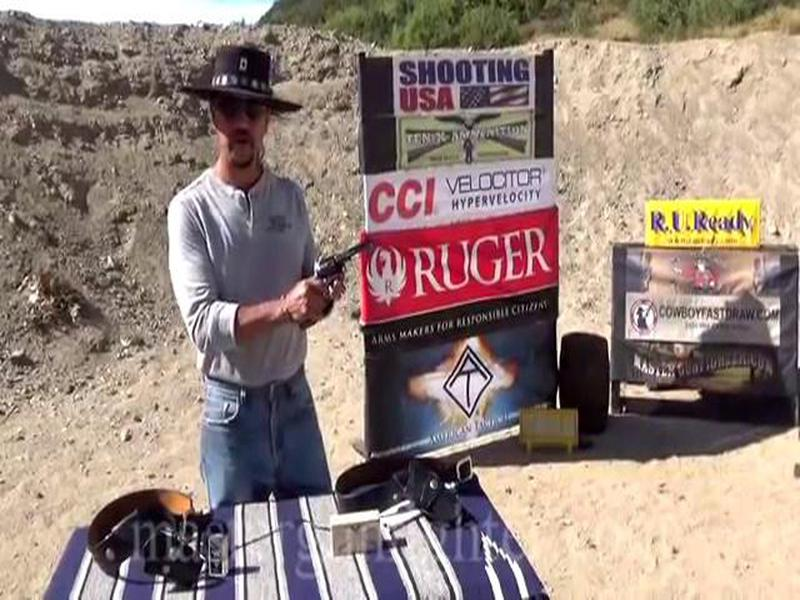Revolver: (288, 233, 387, 320)
